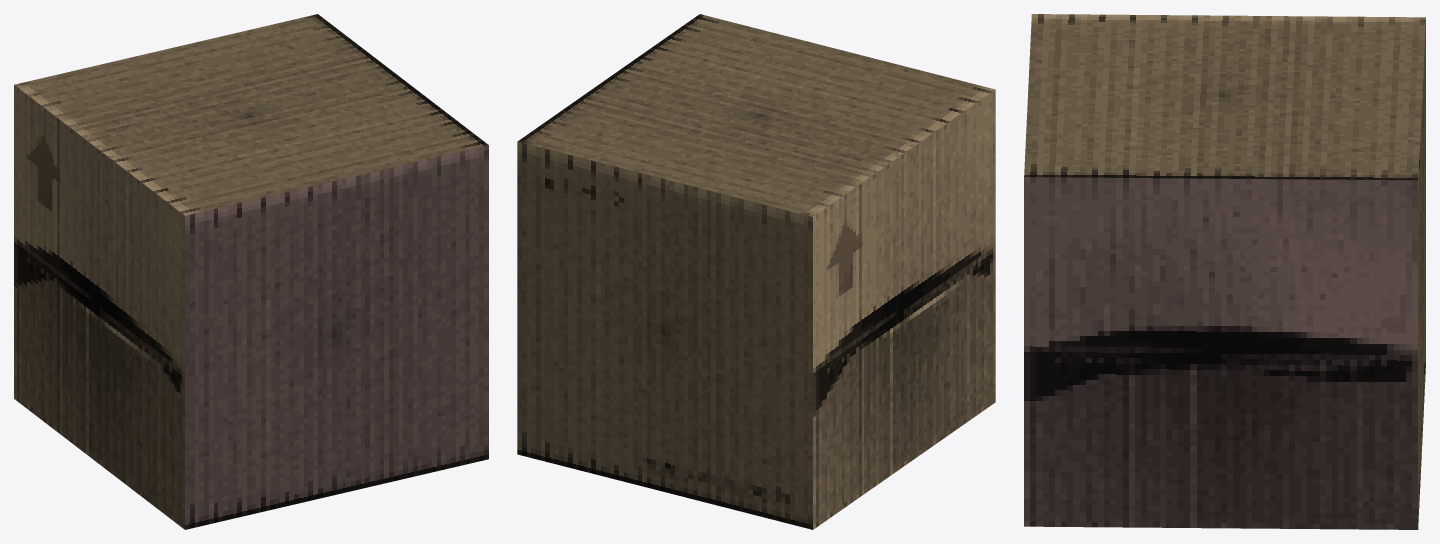
File: primary_115.glb
The picture shows the model from 3 angles, left to right: view 1: azimuth 30°, elevation 25°; view 2: azimuth 150°, elevation 25°; view 3: azimuth 270°, elevation 25°; orthographic projection. The views are drawn at different scales.
Parts seen in each view (by area): view 1: Object; view 2: Object; view 3: Object.
Part boxes in pixels (left/top/right/bottom): Object: left=14, top=14, right=488, bottom=529; Object: left=517, top=14, right=995, bottom=529; Object: left=1024, top=14, right=1425, bottom=529.
Size of the model in its own units: 1.09 by 1.07 by 1.12.
7 materials, 7 textured.
